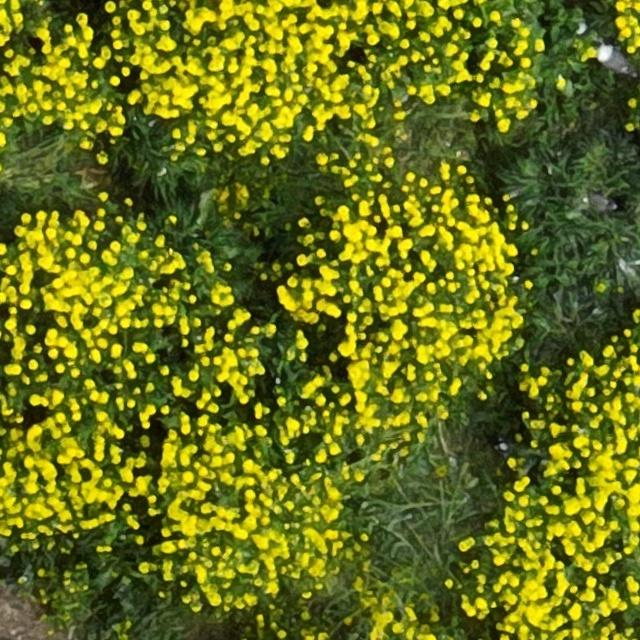umineko: (598, 47, 630, 74)
